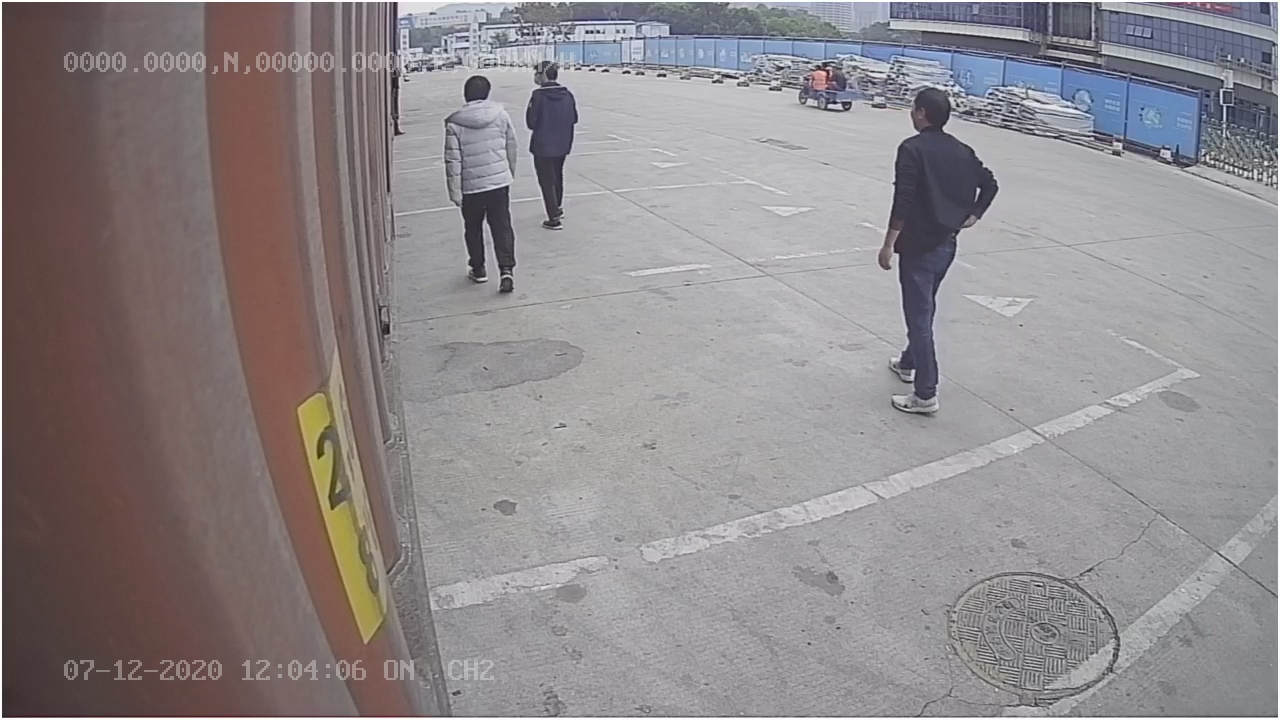person: (875, 84, 1001, 415)
